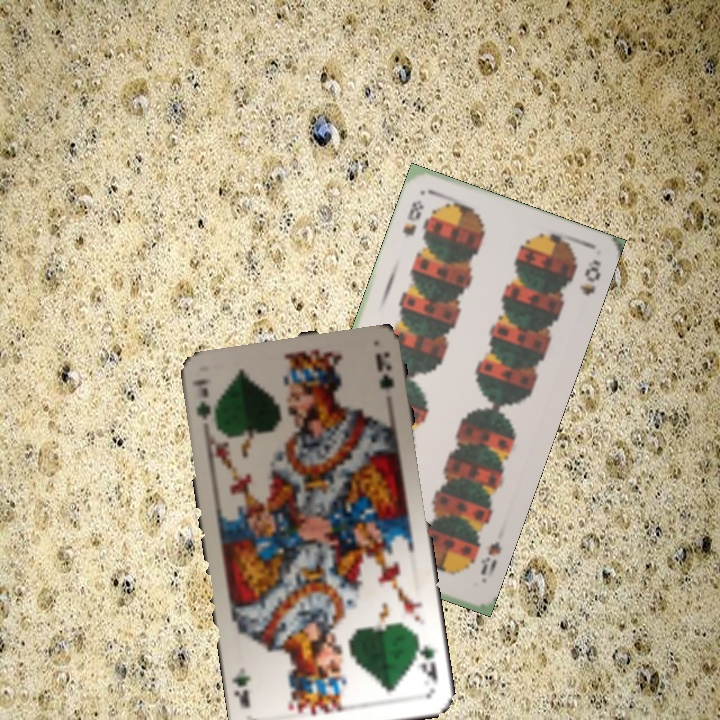GK: (188, 374, 219, 430), (412, 634, 440, 685)
S8: (398, 195, 426, 241), (476, 538, 504, 578)
